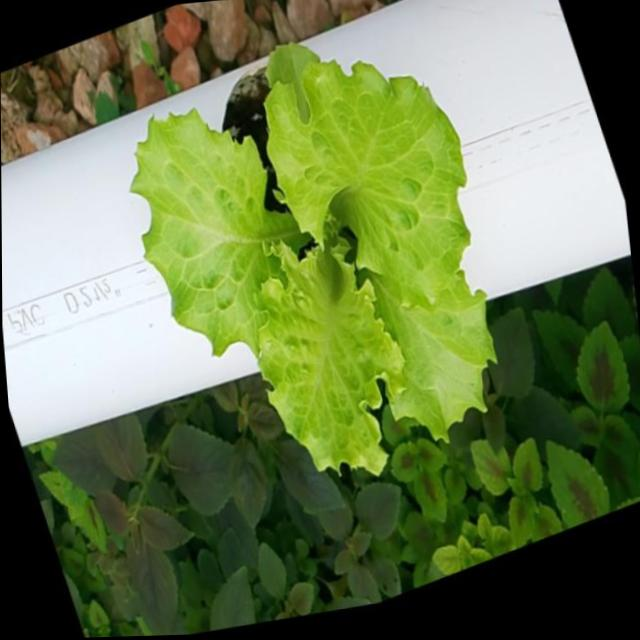Baby: (137, 54, 499, 481)
